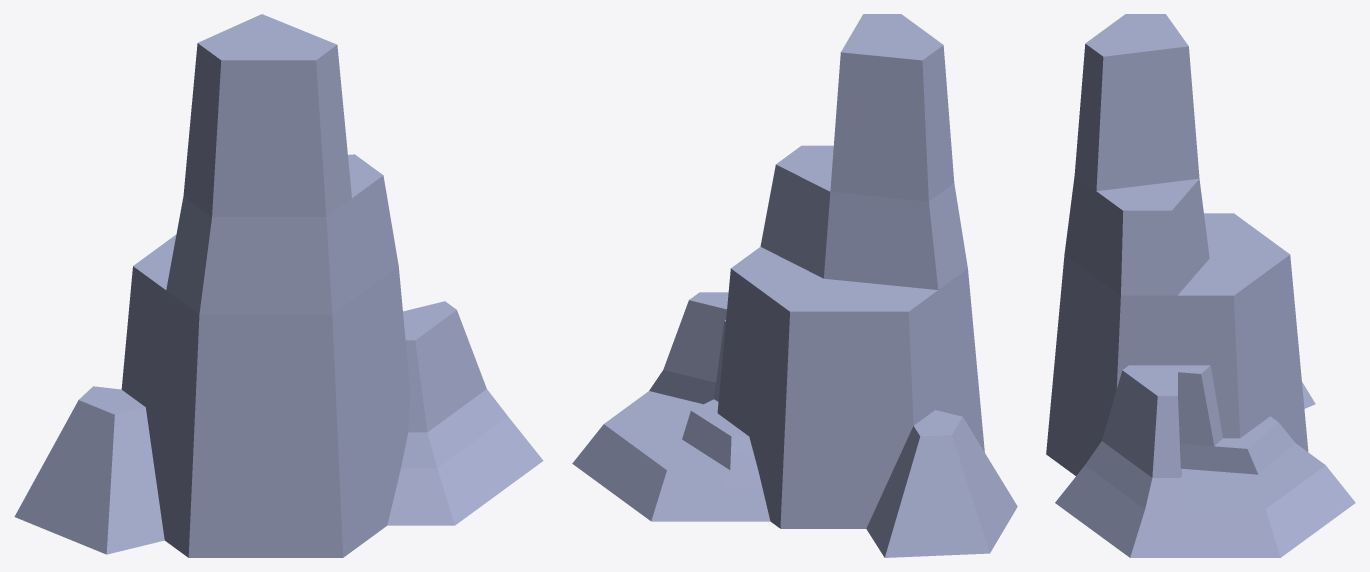
The model's file is rock_tall_cluster.glb.
3 views of the same model, side by side, from view 1: azimuth 30°, elevation 25°; view 2: azimuth 150°, elevation 25°; view 3: azimuth 270°, elevation 25° (orthographic). The views are drawn at different scales.
Parts seen in each view (by area): view 1: rock_tall_cluster; view 2: rock_tall_cluster; view 3: rock_tall_cluster.
Part boxes in pixels (x1,y1,x2,y2): rock_tall_cluster: (14, 14, 543, 557); rock_tall_cluster: (572, 14, 1017, 557); rock_tall_cluster: (1046, 14, 1355, 557).
Bounding box in the file's own units: 0.9831 × 0.9959 × 0.6832.
